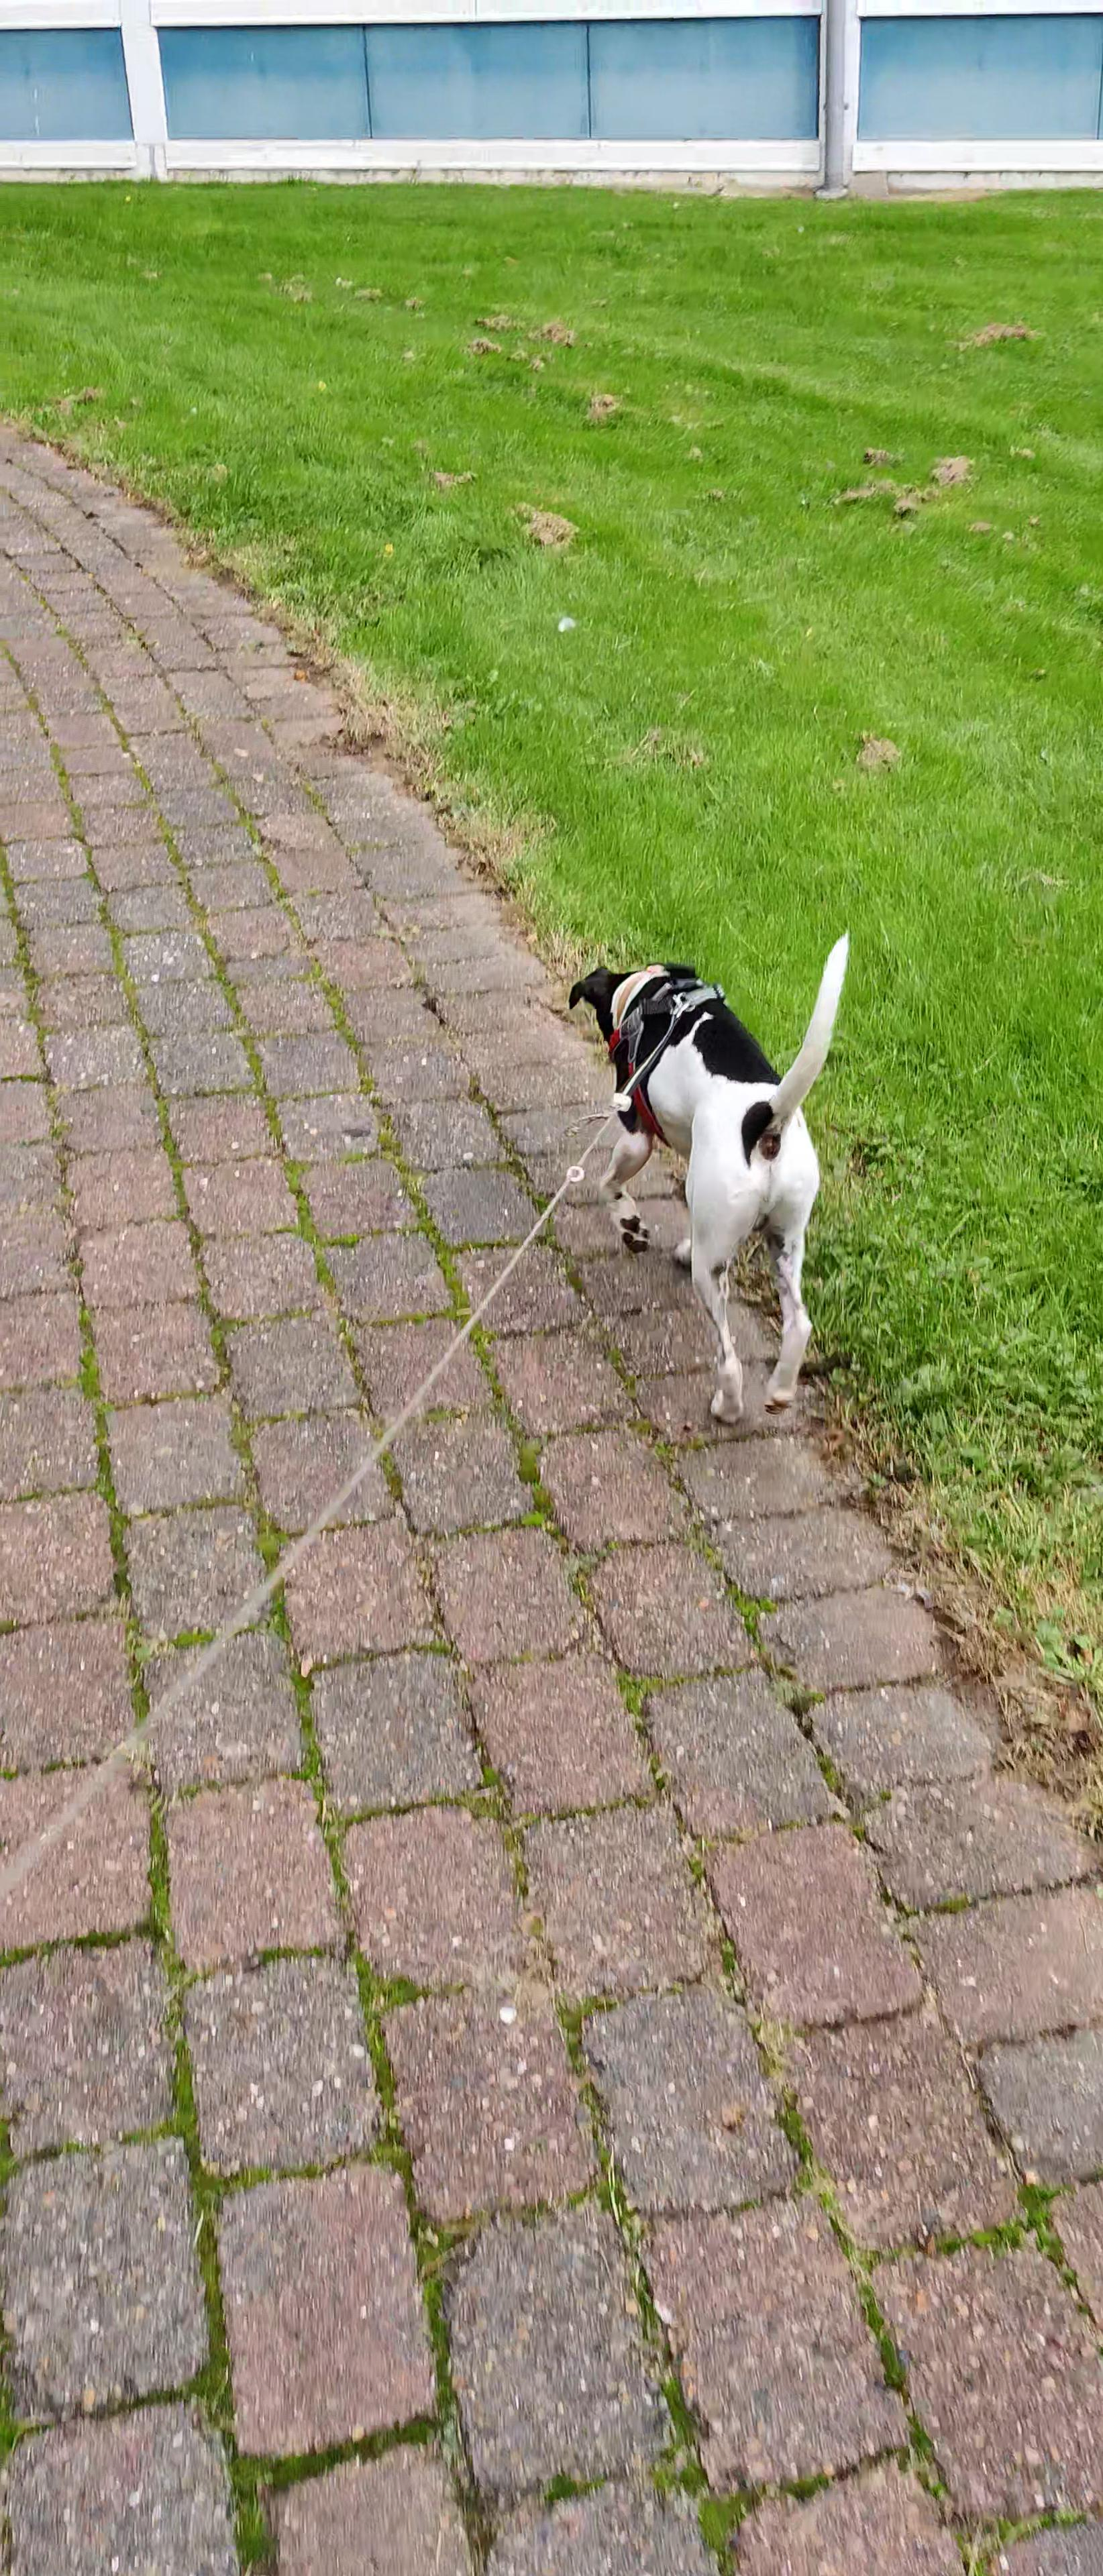Dog: (565, 930, 853, 1437)
